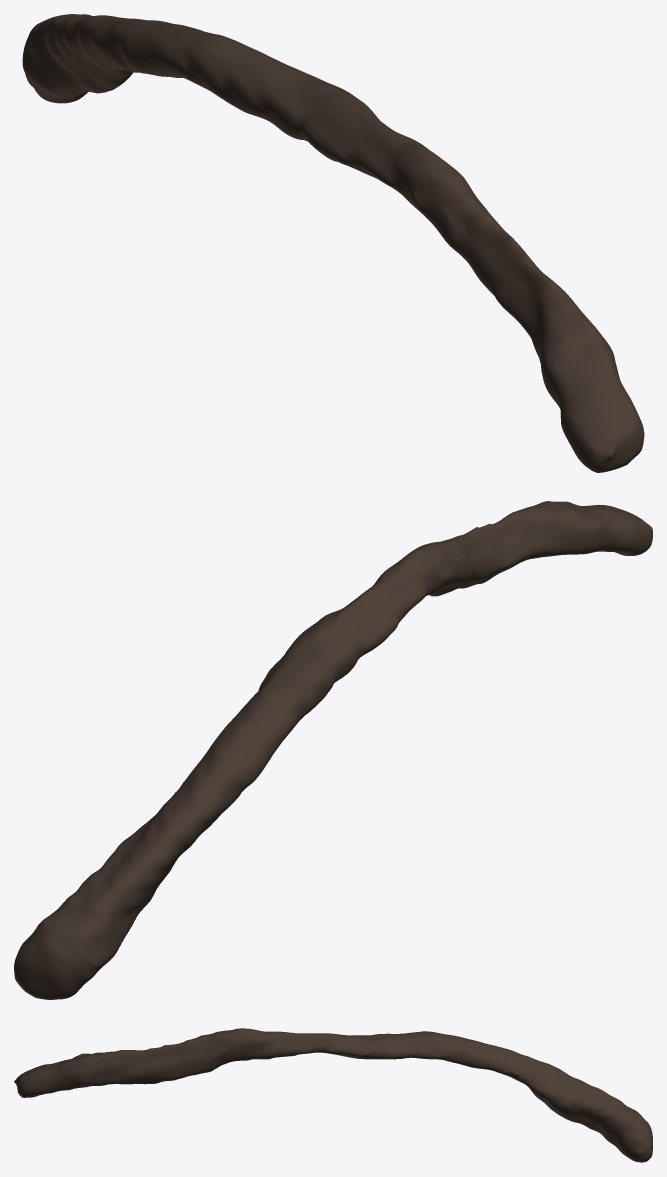
The model's file is esophagus.obj.
3 views of the same model, one above another, from view 1: azimuth 30°, elevation 25°; view 2: azimuth 150°, elevation 25°; view 3: azimuth 270°, elevation 25° (orthographic). The views are drawn at different scales.
Parts seen in each view (by area): view 1: grp1; view 2: grp1; view 3: grp1.
Boxes of the visible parts, <box> form: grp1: <box>22,14,644,472</box>; grp1: <box>14,501,652,999</box>; grp1: <box>14,1028,652,1162</box>.
Bounding box in the file's own units: 33.39 × 57.13 × 273.
